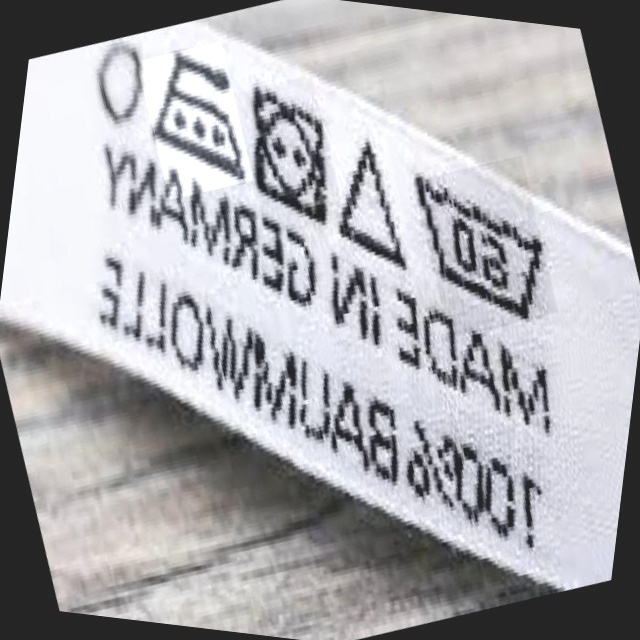60C: (398, 169, 566, 317)
bleach: (330, 134, 416, 269)
iron_high: (144, 44, 256, 181)
tumble_dry_medium: (239, 82, 341, 220)
